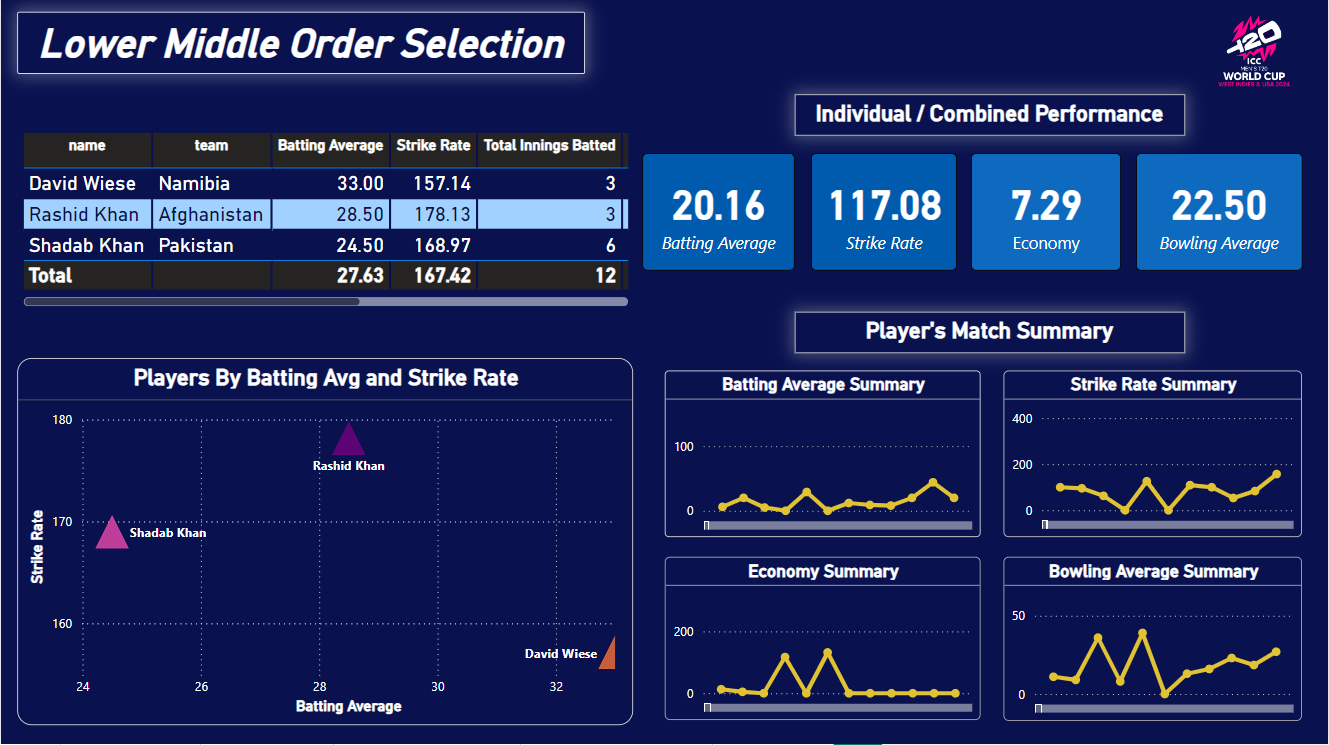

The page's visual inventory and layout, read from the dashboard file:
{"tool":"powerbi","page":{"name":"Lower Middle Order","canvas":[1280,720],"ordinal":3},"visuals":[{"type":"tableEx","fields":{"Values":["dimplayers.name","dimplayers.team","Key Measures.Batting Average","Key Measures.Strike Rate","Key Measures.Total Innings Batted","Key Measures.Batting Position","Key Measures.Total Innings Bowled","Key Measures.Economy","Key Measures.Bowling Strike Rate"]},"box":[15.7,125.5,594.8,177.3],"z":0},{"type":"scatterChart","title":"Players By Batting Avg and Strike Rate","fields":{"Category":["factBattingSummary.batsmanName"],"Y":["Key Measures.Strike Rate"],"X":["Key Measures.Batting Average"]},"box":[15.7,347.5,594.8,354.7],"z":1},{"type":"textbox","box":[766.1,92.9,376.4,39.8],"z":2},{"type":"textbox","box":[15.7,13.3,547.7,60.3],"z":3},{"type":"card","fields":{"Values":["Key Measures.Strike Rate"]},"box":[781.8,149.6,141.2,113.4],"z":4},{"type":"card","fields":{"Values":["Key Measures.Batting Average"]},"box":[618.9,149.6,147.2,113.4],"z":5},{"type":"card","fields":{"Values":["Key Measures.Economy"]},"box":[936.2,149.6,144.8,113.4],"z":6},{"type":"card","fields":{"Values":["Key Measures.Bowling Average"]},"box":[1095.4,149.6,160.5,113.4],"z":7},{"type":"textbox","box":[766.1,302.8,376.4,39.8],"z":8},{"type":"lineChart","title":"Batting Average Summary","fields":{"Y":["Key Measures.Batting Average"],"Category":["dimMatchSummary.match_id","dimplayers.name"]},"box":[640.1,359.4,304.9,160.9],"z":9},{"type":"lineChart","title":"Strike Rate Summary","fields":{"Y":["Key Measures.Strike Rate"],"Category":["dimMatchSummary.match_id","dimplayers.name"]},"box":[967.6,359.5,288.3,160.5],"z":10},{"type":"lineChart","title":"Economy Summary","fields":{"Category":["dimplayers.name","dimMatchSummary.match_id"],"Y":["Key Measures.Economy"]},"box":[640.1,539.7,304.9,157.3],"z":11},{"type":"lineChart","title":"Bowling Average Summary","fields":{"Category":["dimMatchSummary.match_id","dimplayers.name"],"Y":["Key Measures.Bowling Average"]},"box":[967.6,539.3,288.3,158],"z":12},{"type":"image","box":[1150.9,0,117,102.5],"z":13}]}

Visuals, with their boxes in screenshot pixels (x1, y1, x2, y2), scaled from the page's 1280x720 canvas onto the 1329x745 screenshot:
tableEx - dimplayers.name x dimplayers.team: Rect(16, 130, 634, 313)
"Players By Batting Avg and Strike Rate" scatterChart: Rect(16, 360, 634, 727)
textbox: Rect(795, 96, 1186, 137)
textbox: Rect(16, 14, 585, 76)
card - Key Measures.Strike Rate: Rect(812, 155, 958, 272)
card - Key Measures.Batting Average: Rect(643, 155, 795, 272)
card - Key Measures.Economy: Rect(972, 155, 1122, 272)
card - Key Measures.Bowling Average: Rect(1137, 155, 1304, 272)
textbox: Rect(795, 313, 1186, 354)
"Batting Average Summary" lineChart: Rect(665, 372, 981, 538)
"Strike Rate Summary" lineChart: Rect(1005, 372, 1304, 538)
"Economy Summary" lineChart: Rect(665, 558, 981, 721)
"Bowling Average Summary" lineChart: Rect(1005, 558, 1304, 722)
image: Rect(1195, 0, 1316, 106)
